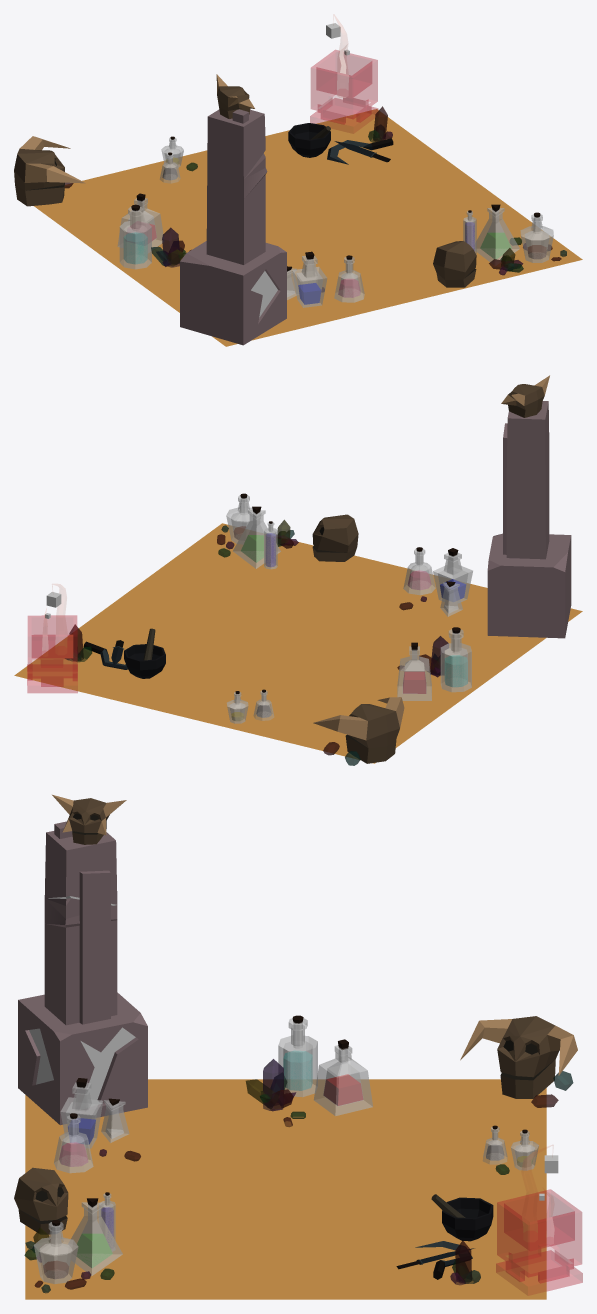
The model's file is shaman_environment.obj.
The picture shows the model from 3 angles, top to bottom: view 1: azimuth 30°, elevation 25°; view 2: azimuth 150°, elevation 25°; view 3: azimuth 270°, elevation 25°; orthographic projection. The views are drawn at different scales.
Visible parts, largest first — view 1: carpet_Plane, torre_Cubo.001, fff_Cubo.020, Set_shaman.007, Set_shaman.008, Set_shaman.005, Set_shaman.006, Set_shaman.003, Set_shaman.004, Set_shaman.002, Set_shaman.009, Set_shaman.001 (+2 smaller); view 2: carpet_Plane, torre_Cubo.001, fff_Cubo.020, Set_shaman.008, Set_shaman.005, Set_shaman.007, Set_shaman.006, Set_shaman.003, Set_shaman.004, Set_shaman.002, Set_shaman.009, Set_shaman.001; view 3: carpet_Plane, torre_Cubo.001, fff_Cubo.020, Set_shaman.008, Set_shaman.005, Set_shaman.007, Set_shaman.006, Set_shaman.003, luz_tore1_Cubo.000, Set_shaman.004, Set_shaman.002, Set_shaman.009 (+2 smaller).
Boxes of the visible parts, bbox=[...] form: carpet_Plane: bbox=[34, 109, 582, 346]; torre_Cubo.001: bbox=[180, 109, 286, 345]; fff_Cubo.020: bbox=[310, 50, 378, 133]; Set_shaman.007: bbox=[463, 204, 566, 275]; Set_shaman.008: bbox=[117, 193, 191, 269]; Set_shaman.005: bbox=[14, 136, 85, 206]; Set_shaman.006: bbox=[287, 251, 364, 307]; Set_shaman.003: bbox=[433, 241, 476, 287]; Set_shaman.004: bbox=[288, 123, 330, 157]; Set_shaman.002: bbox=[216, 74, 254, 118]; Set_shaman.009: bbox=[160, 136, 197, 183]; Set_shaman.001: bbox=[327, 138, 393, 164]; carpet_Plane: bbox=[14, 523, 582, 763]; torre_Cubo.001: bbox=[487, 401, 571, 638]; fff_Cubo.020: bbox=[27, 615, 77, 692]; Set_shaman.008: bbox=[397, 627, 471, 700]; Set_shaman.005: bbox=[313, 697, 404, 765]; Set_shaman.007: bbox=[217, 493, 298, 569]; Set_shaman.006: bbox=[399, 547, 472, 616]; Set_shaman.003: bbox=[312, 514, 358, 561]; Set_shaman.004: bbox=[124, 628, 165, 678]; Set_shaman.002: bbox=[501, 375, 549, 417]; Set_shaman.009: bbox=[227, 689, 274, 723]; Set_shaman.001: bbox=[83, 640, 128, 669]; carpet_Plane: bbox=[25, 1079, 546, 1299]; torre_Cubo.001: bbox=[18, 821, 147, 1125]; fff_Cubo.020: bbox=[496, 1189, 582, 1295]; Set_shaman.008: bbox=[245, 1015, 372, 1126]; Set_shaman.005: bbox=[460, 1016, 577, 1107]; Set_shaman.007: bbox=[24, 1192, 122, 1293]; Set_shaman.006: bbox=[54, 1078, 140, 1173]; Set_shaman.003: bbox=[14, 1167, 68, 1234]; luz_tore1_Cubo.000: bbox=[29, 896, 135, 1104]; Set_shaman.004: bbox=[431, 1194, 493, 1241]; Set_shaman.002: bbox=[52, 794, 126, 844]; Set_shaman.009: bbox=[483, 1125, 538, 1174].
Size of the model in its own units: 80.9 by 50.54 by 84.92.
